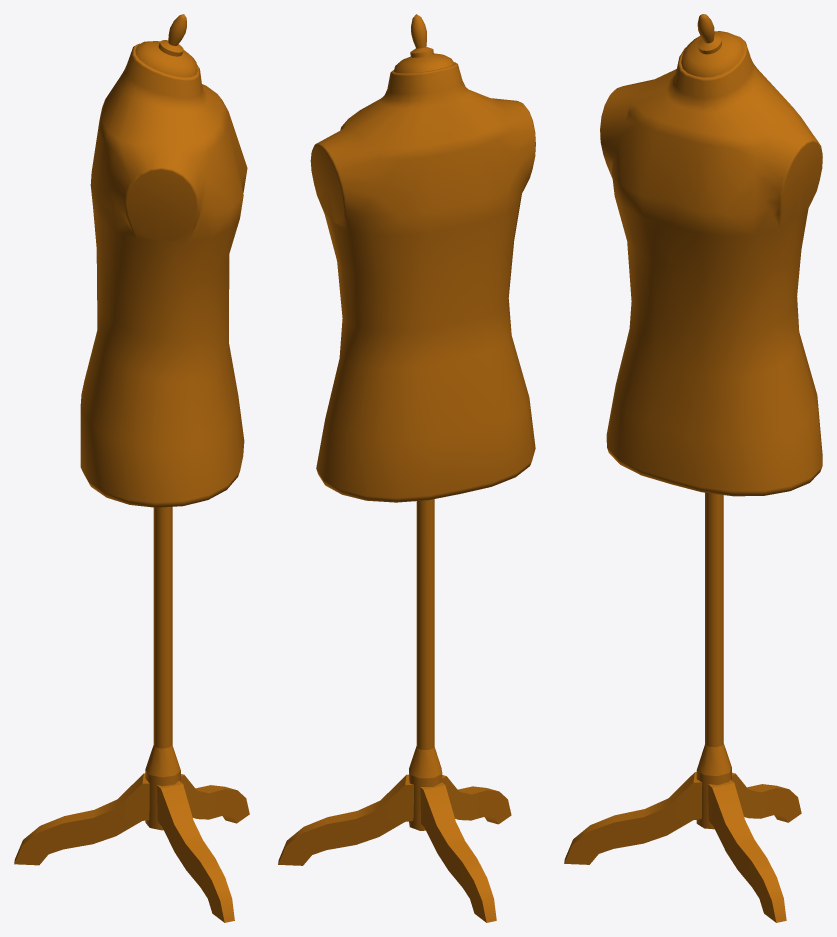
The model's file is Ma-no-canh (1.5, 0.9, 0.3).glb.
3 views of the same model, side by side, from view 1: azimuth 30°, elevation 25°; view 2: azimuth 150°, elevation 25°; view 3: azimuth 270°, elevation 25° (orthographic).
Visible parts, largest first — view 1: Dress.003; view 2: Dress.003; view 3: Dress.003.
Part boxes in pixels (box(x1,y1,x2,y2)): Dress.003: box(14, 14, 249, 922); Dress.003: box(278, 14, 535, 922); Dress.003: box(564, 14, 822, 922).
Bounding box in the file's own units: 0.5177 × 1.85 × 0.5049.
